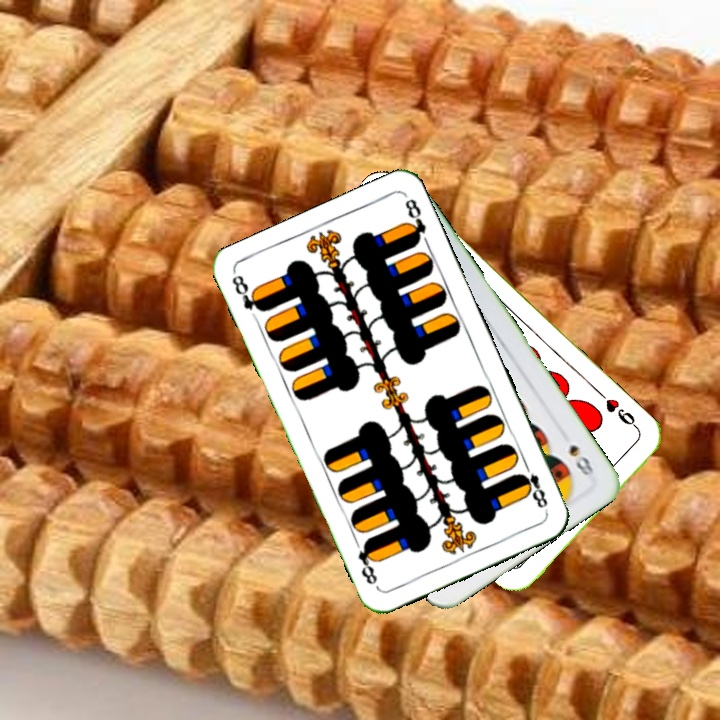E8: (227, 271, 267, 326), (515, 457, 551, 513)
H9: (595, 388, 643, 434)
S8: (564, 440, 596, 479)
